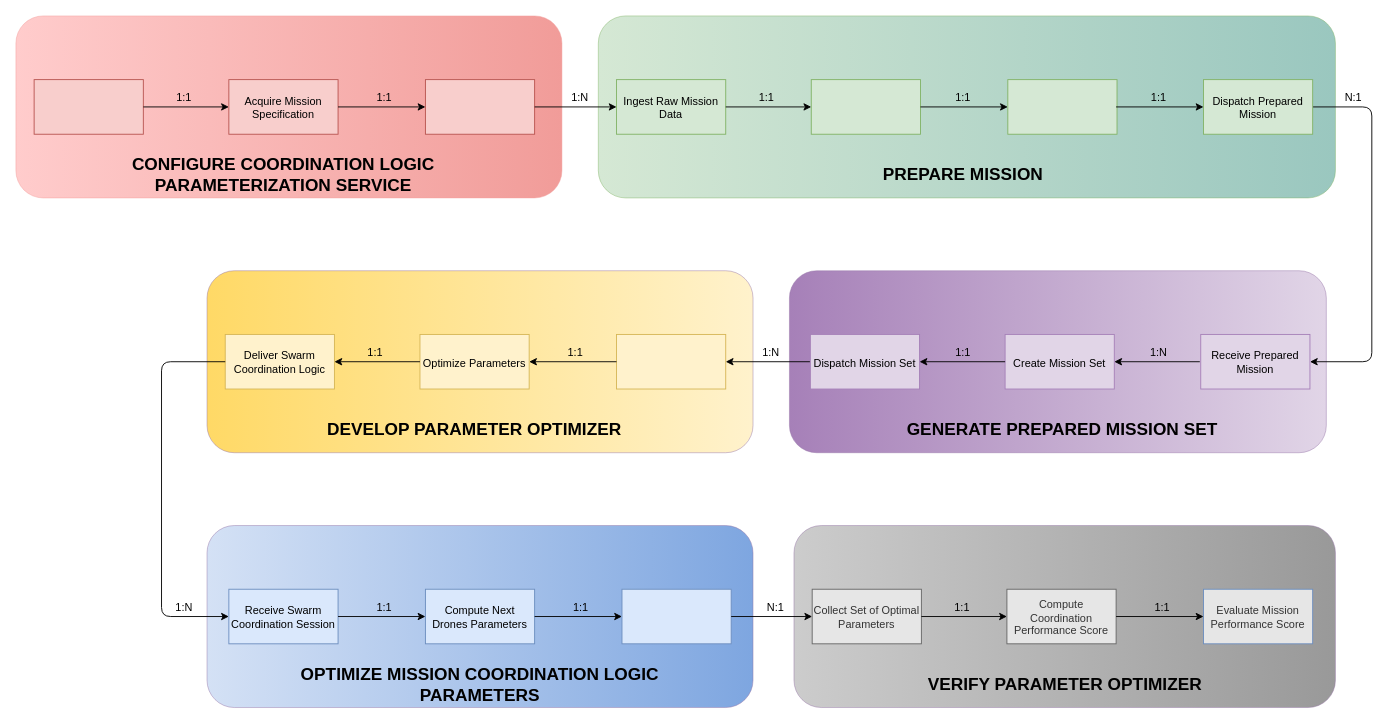
Some shapes in this 1395 by 723 pixel diagram are drawn without their labels. The centre of each missing label's shape, as x and y in pixels:
"Clean Raw Mission Data" belongs at pixel 865 106.
"Configure Mission" belongs at pixel 480 106.
"Generate Prepared Mission" belongs at pixel 1062 106.
"Receive Customer Mission Request" belongs at pixel 88 106.
"Receive Mission Set" belongs at pixel 671 361.
"Send Coordination Instructions" belongs at pixel 676 616.
